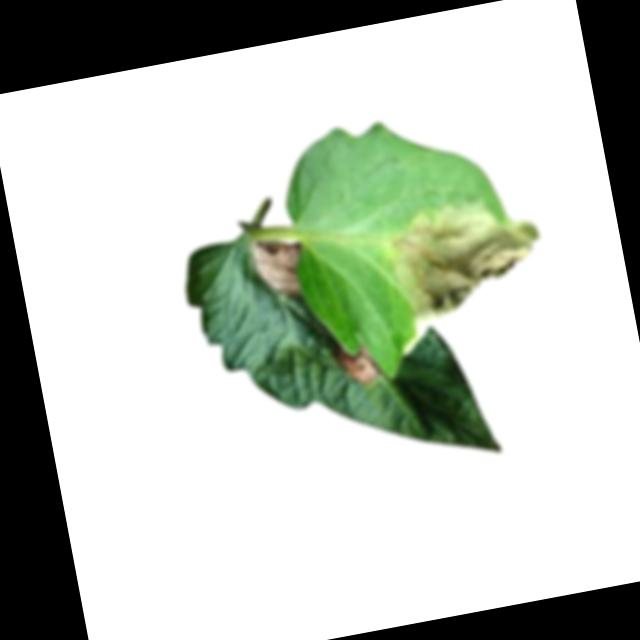Late_blight: (381, 186, 553, 329), (244, 233, 309, 302), (331, 340, 382, 390)
